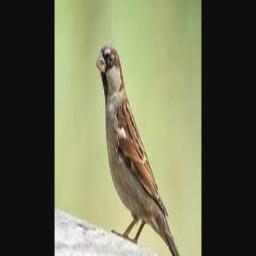Sparrow: (96, 46, 190, 256)
